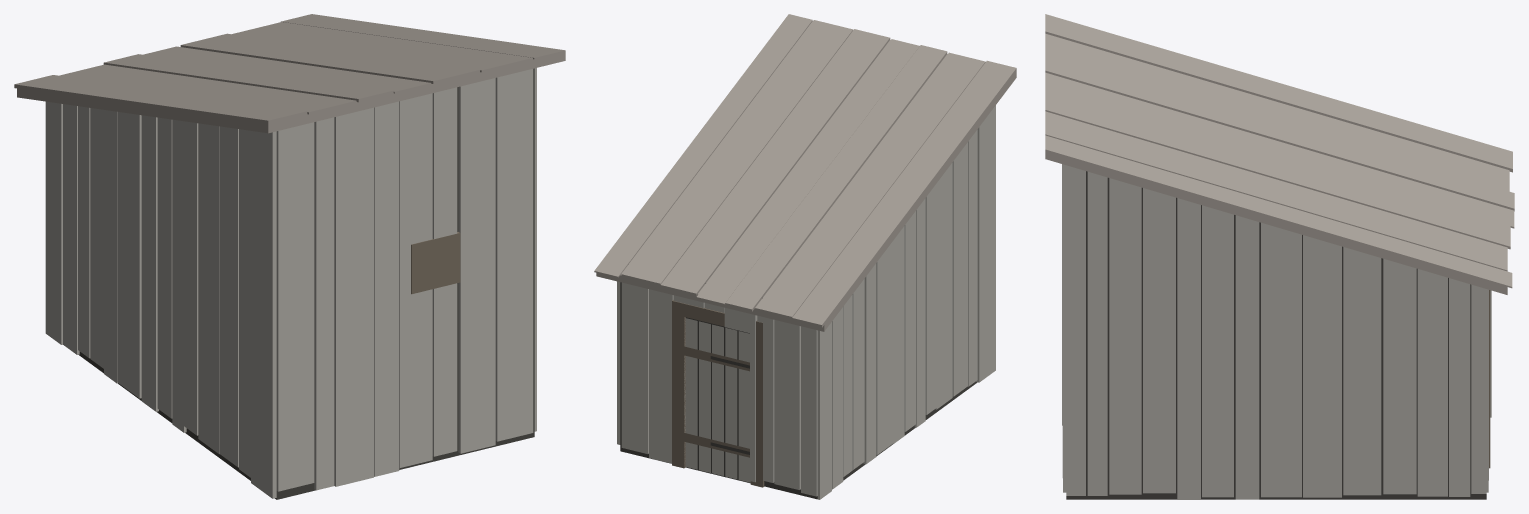
File: recon_1835_north_a4_052__inferred_1835.glb
The picture shows the model from 3 angles, left to right: view 1: azimuth 30°, elevation 25°; view 2: azimuth 150°, elevation 25°; view 3: azimuth 270°, elevation 25°; orthographic projection. The views are drawn at different scales.
Visible parts, largest first — view 1: recon_1835_north_a4_052__inferred_1835; view 2: recon_1835_north_a4_052__inferred_1835; view 3: recon_1835_north_a4_052__inferred_1835.
Part boxes in pixels (x1,y1,x2,y2): recon_1835_north_a4_052__inferred_1835: (14,14,565,499); recon_1835_north_a4_052__inferred_1835: (594,14,1016,499); recon_1835_north_a4_052__inferred_1835: (1045,14,1514,499).
Bounding box in the file's own units: 2.96 × 3.73 × 4.39.
